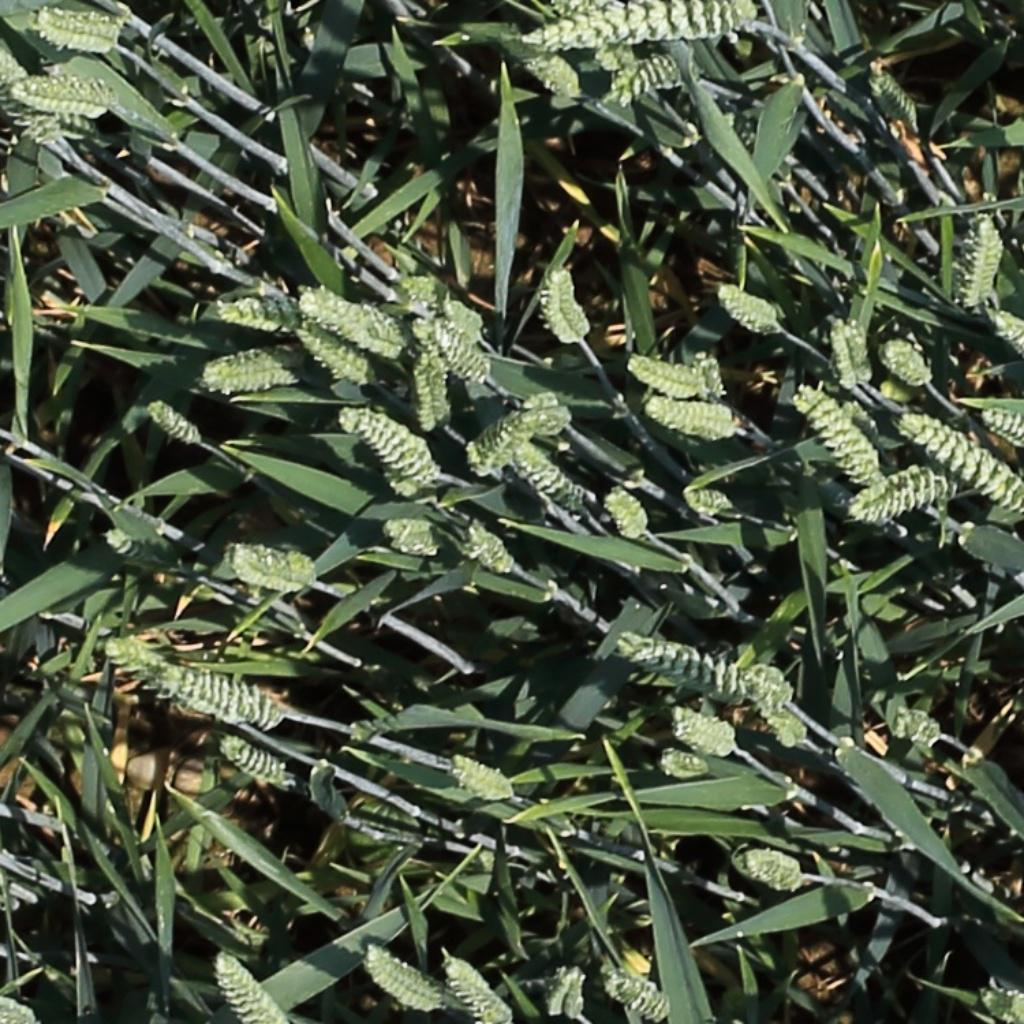0-0: (527, 0, 754, 66), (902, 410, 1019, 512), (794, 382, 884, 484), (158, 666, 290, 730), (619, 636, 749, 697), (341, 406, 436, 486), (221, 531, 322, 595), (851, 466, 943, 535), (300, 301, 385, 368), (303, 292, 397, 352), (513, 439, 589, 512), (364, 944, 442, 1013), (466, 397, 532, 478), (18, 69, 124, 119), (214, 283, 312, 337), (214, 948, 285, 1022), (502, 32, 580, 98), (206, 338, 293, 397), (0, 38, 50, 138), (419, 316, 492, 383), (768, 696, 835, 769), (442, 953, 513, 1021), (296, 322, 371, 385), (397, 279, 490, 325), (377, 455, 450, 511), (603, 961, 673, 1019), (538, 263, 584, 349), (31, 0, 122, 43), (869, 61, 925, 129), (628, 356, 712, 396), (103, 525, 174, 571), (518, 388, 582, 439), (745, 658, 803, 714), (968, 208, 1000, 308), (221, 740, 289, 787), (462, 518, 517, 576), (607, 60, 684, 101), (417, 341, 450, 435), (450, 755, 517, 801), (739, 844, 806, 890), (834, 312, 871, 395), (602, 484, 653, 543), (718, 282, 782, 329), (673, 707, 737, 753), (647, 398, 737, 430), (412, 345, 442, 439), (883, 337, 936, 386), (896, 701, 944, 755), (146, 400, 203, 445), (43, 111, 110, 149), (547, 961, 589, 1021), (988, 305, 1024, 363), (697, 346, 730, 406), (980, 406, 1024, 446), (385, 525, 441, 555), (553, 0, 628, 22), (981, 989, 1022, 1022), (660, 753, 712, 778), (684, 488, 735, 510), (0, 1003, 31, 1024)
